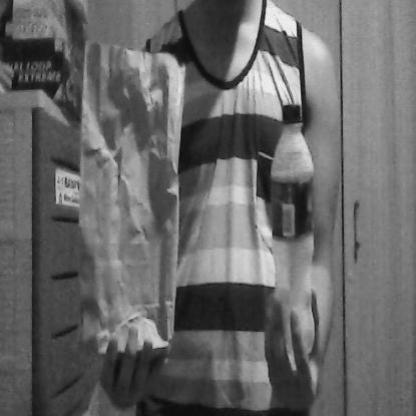Plastic Bottle: (262, 97, 325, 375)
